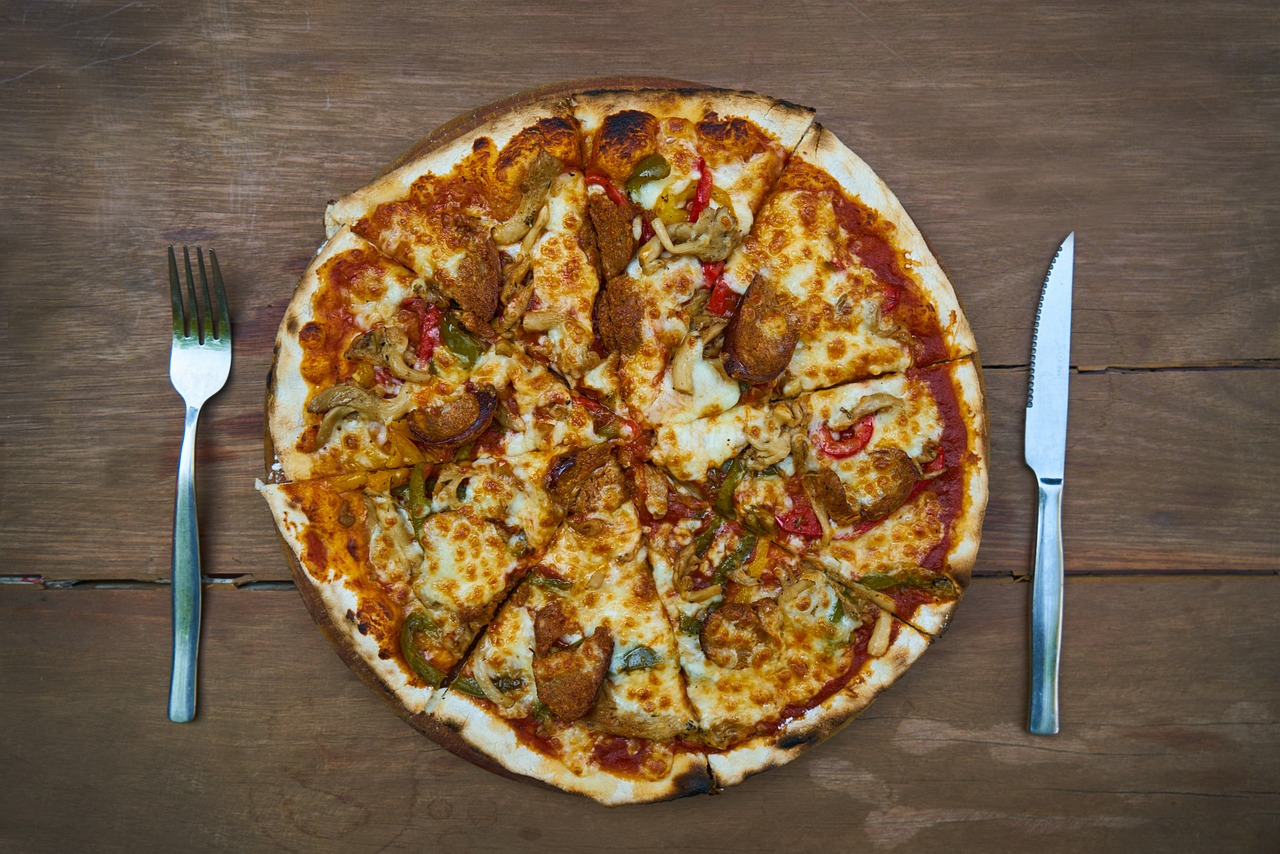knife: (1024, 224, 1073, 745)
